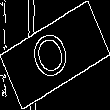O_SE: (30, 22, 80, 88)
